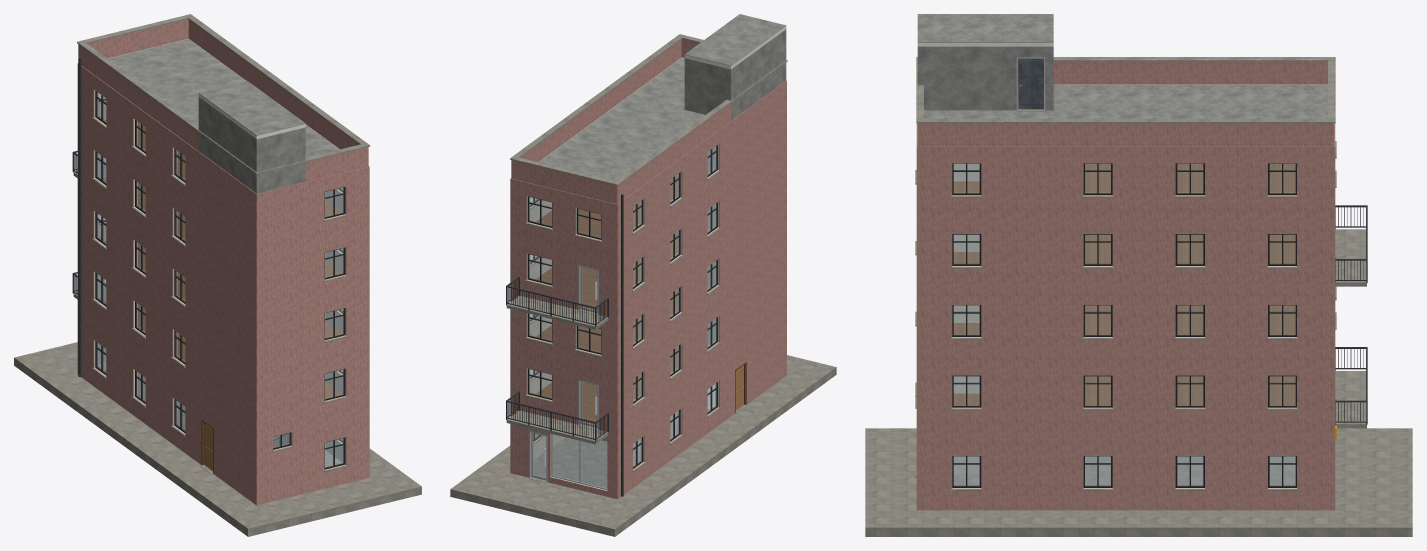
The model's file is b_vn_tube_house.gltf.
3 renders of one model, left to right at view 1: azimuth 30°, elevation 25°; view 2: azimuth 150°, elevation 25°; view 3: azimuth 270°, elevation 25°, orthographic. The views are drawn at different scales.
Visible parts, largest first — view 1: S_vn_tube_house; view 2: S_vn_tube_house, D_vn_tube_house_F2_S1_Door0, D_vn_tube_house_F4_S1_Door0, D_vn_tube_house_F1_S1_Door0; view 3: S_vn_tube_house, D_vn_tube_house_PH_W0_Door0.
Part boxes in pixels (x1,y1,x2,y2): S_vn_tube_house: [14, 14, 421, 536]; S_vn_tube_house: [450, 14, 836, 536]; D_vn_tube_house_F2_S1_Door0: [580, 381, 597, 427]; D_vn_tube_house_F4_S1_Door0: [580, 267, 597, 313]; D_vn_tube_house_F1_S1_Door0: [531, 432, 546, 480]; S_vn_tube_house: [865, 14, 1412, 536]; D_vn_tube_house_PH_W0_Door0: [1018, 58, 1043, 109].
Bounding box in the file's own units: 9 × 18.7 × 21.
21 materials, 12 textured.
